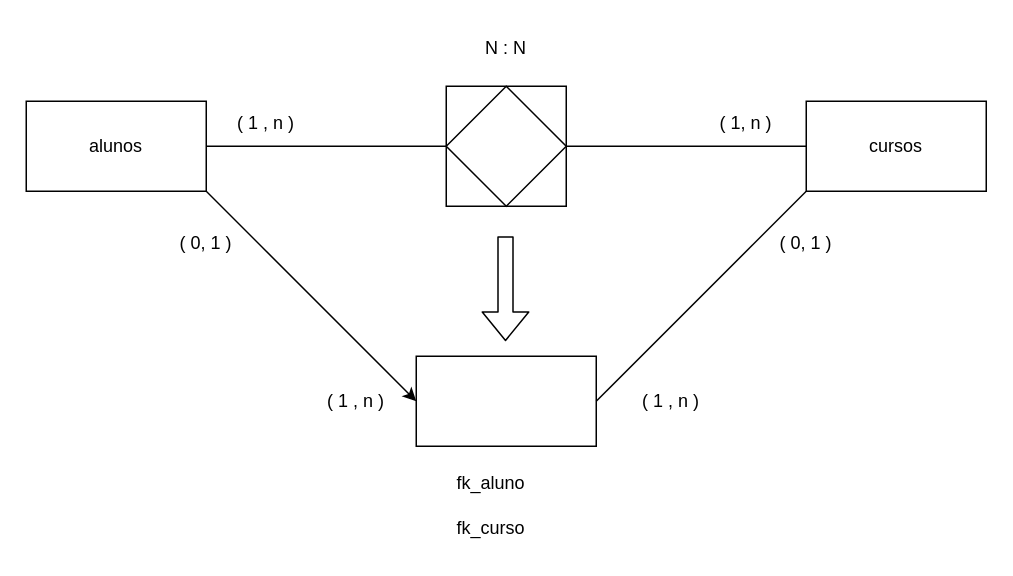
Some shapes in this 1013 by 576 pixel diagram are drawn without their labels. The shapes that lost their labels are listed below. From the top down, each one's box as (x1, y1, x2, y2) in pixels, then its label:
(445, 85, 566, 206): faz
(415, 355, 596, 446): aluno_curso
